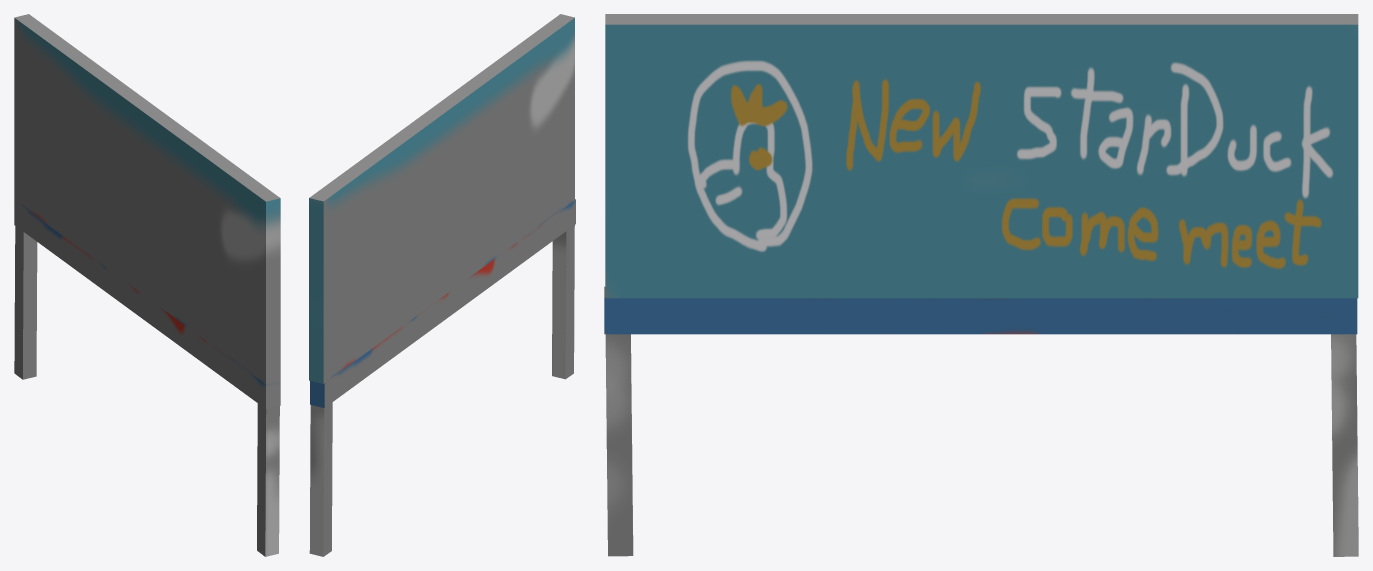
File: outdoor texturastarduck.fbx
The picture shows the model from 3 angles, left to right: view 1: azimuth 30°, elevation 25°; view 2: azimuth 150°, elevation 25°; view 3: azimuth 270°, elevation 25°; orthographic projection. The views are drawn at different scales.
Parts seen in each view (by area): view 1: Cube.002; view 2: Cube.002; view 3: Cube.002.
Boxes of the visible parts, <box> form: Cube.002: <box>14,14,280,556</box>; Cube.002: <box>309,14,575,556</box>; Cube.002: <box>604,14,1358,556</box>.
Size of the model in its own units: 34.01 by 773 by 992.
